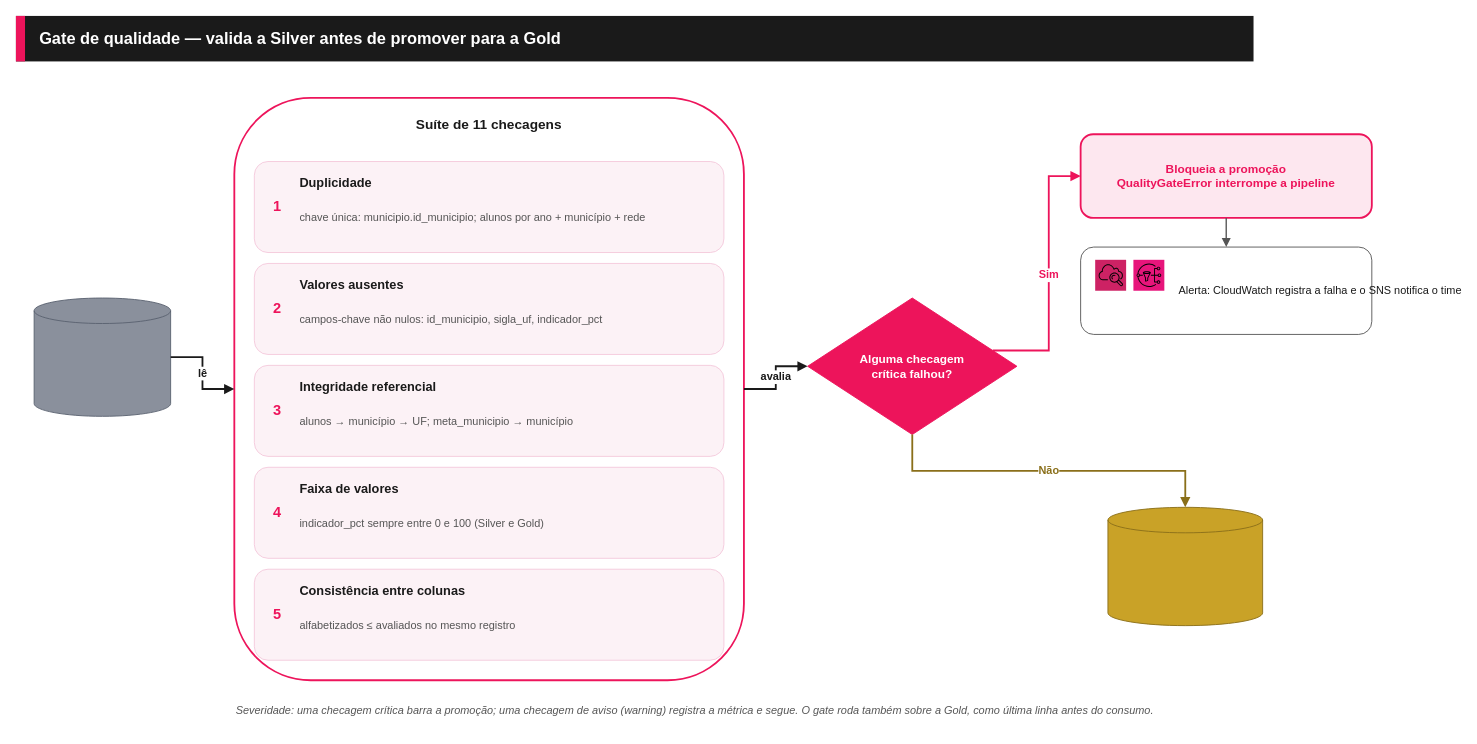
The diagram is 1477 pixels wide and 744 high, and some of its shapes have lost their labels. Here are the shapes that lost their labels. From the top down, the centre of each, then its label:
At (102,356): "SILVER limpo + integrado".
At (1185,566): "GOLD star schema".
